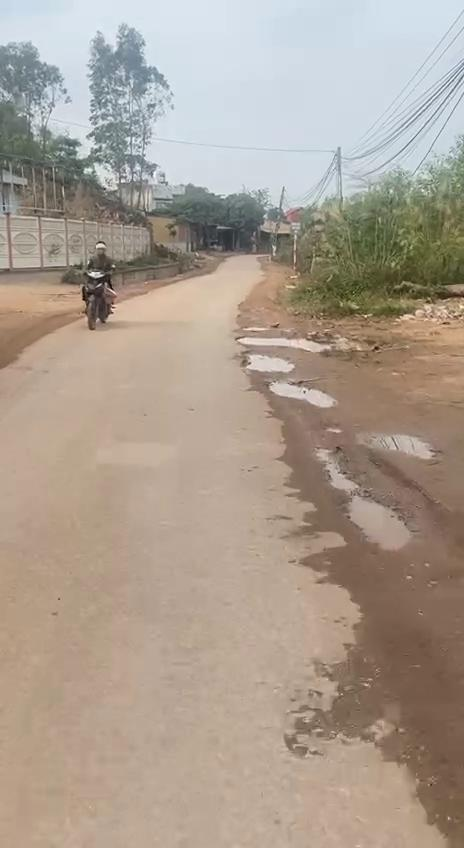pothole: (293, 634, 410, 766), (317, 436, 416, 556), (234, 328, 303, 381), (268, 378, 340, 413)
